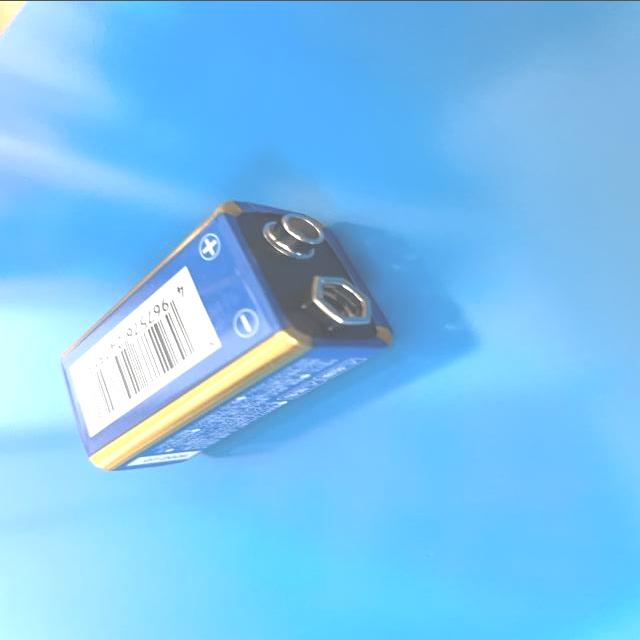9V: (59, 202, 390, 469)
